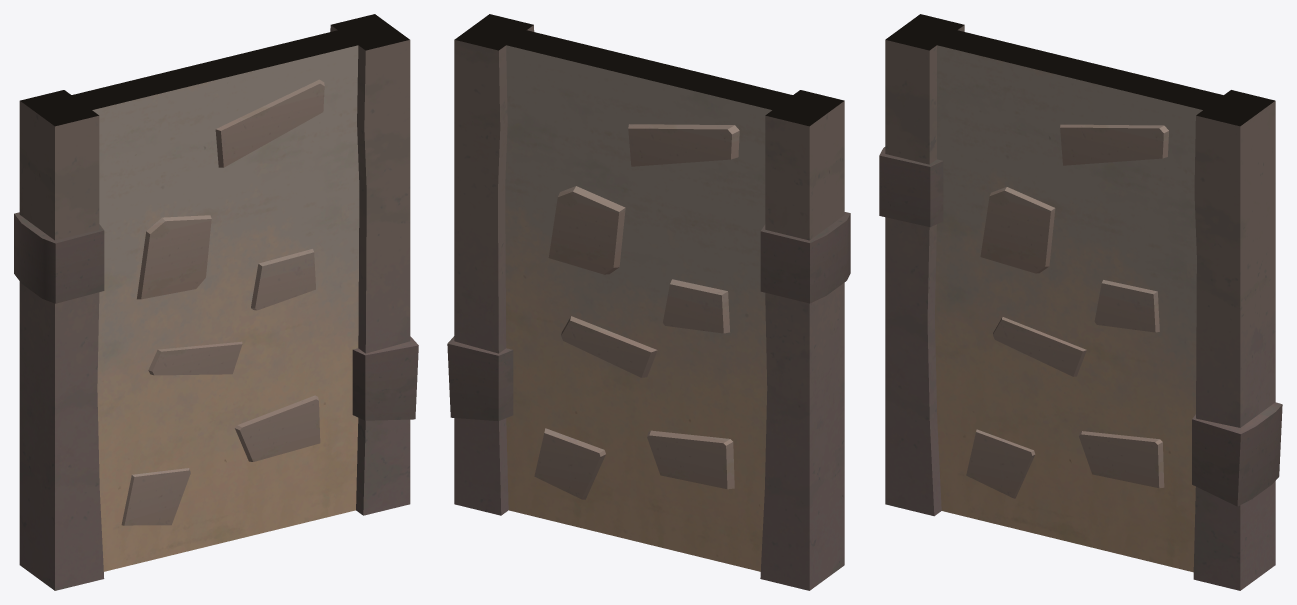
Rendered from Wall_2L_Alt.fbx.
3 views of the same model, side by side, from view 1: azimuth 30°, elevation 25°; view 2: azimuth 150°, elevation 25°; view 3: azimuth 330°, elevation 25° (orthographic).
Visible parts, largest first — view 1: Wall_2L_Alt; view 2: Wall_2L_Alt; view 3: Wall_2L_Alt.
Boxes of the visible parts, bbox=[...] form: Wall_2L_Alt: bbox=[14, 14, 418, 590]; Wall_2L_Alt: bbox=[447, 14, 850, 590]; Wall_2L_Alt: bbox=[879, 14, 1282, 590].
Size of the model in its own units: 417 by 500 by 81.86.
